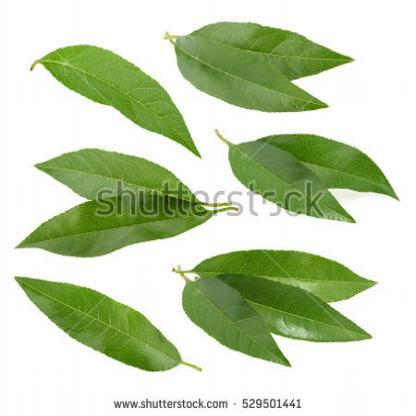Peach leaf: (29, 38, 196, 152), (12, 274, 181, 372), (15, 194, 211, 262), (177, 29, 331, 114), (196, 247, 381, 307), (226, 141, 352, 226), (221, 272, 374, 342), (181, 274, 291, 364), (272, 131, 400, 200), (218, 20, 359, 79), (36, 142, 170, 198)
